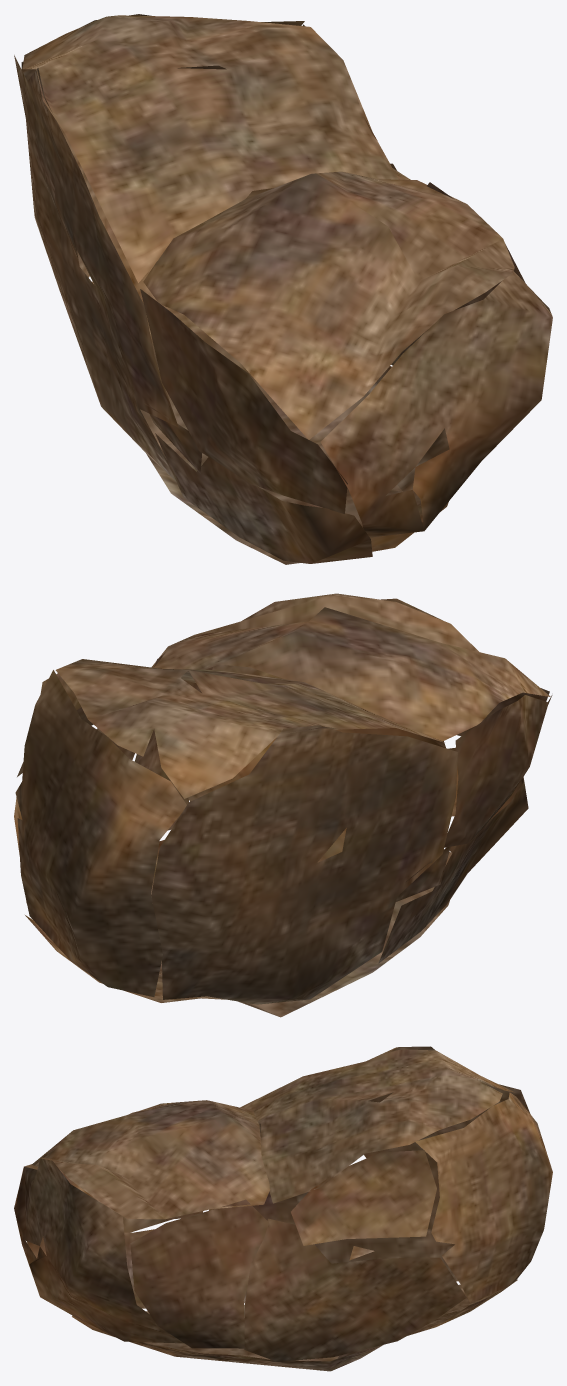
File: namaqualand_boulder_06_lod2.glb
3 renders of one model, top to bottom at view 1: azimuth 30°, elevation 25°; view 2: azimuth 150°, elevation 25°; view 3: azimuth 270°, elevation 25°, orthographic. The views are drawn at different scales.
Visible parts, largest first — view 1: namaqualand_boulder_06; view 2: namaqualand_boulder_06; view 3: namaqualand_boulder_06.
Boxes of the visible parts, x1,y1,x2,y2 form: namaqualand_boulder_06: (14, 14, 552, 564); namaqualand_boulder_06: (14, 593, 552, 1017); namaqualand_boulder_06: (14, 1046, 552, 1371).
Bounding box in the file's own units: 0.66 × 0.6415 × 1.21.
Materials: 1 (1 with a texture image).
